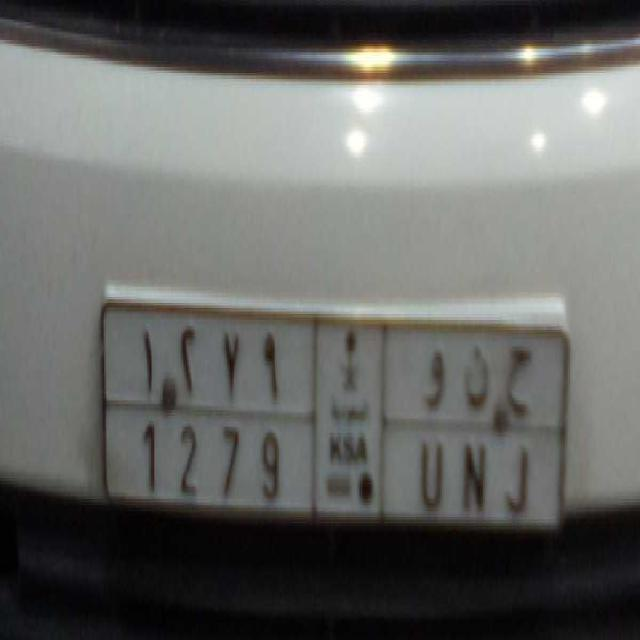license_plate: (115, 408, 540, 529)
